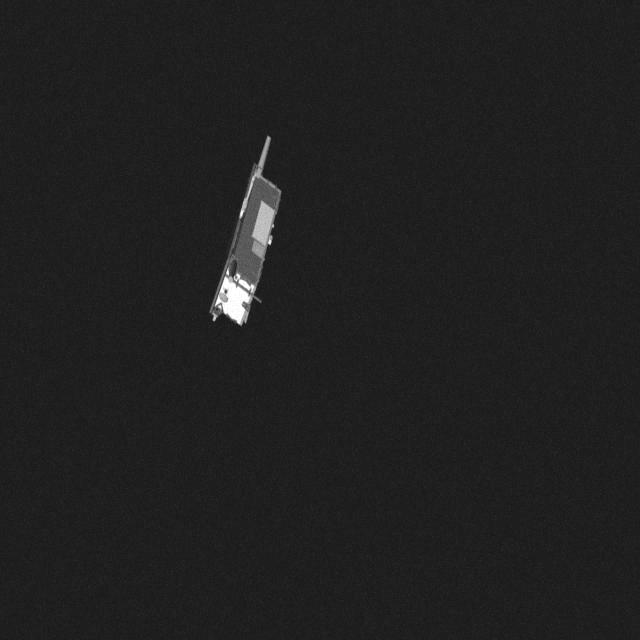satellite: (198, 136, 288, 350)
